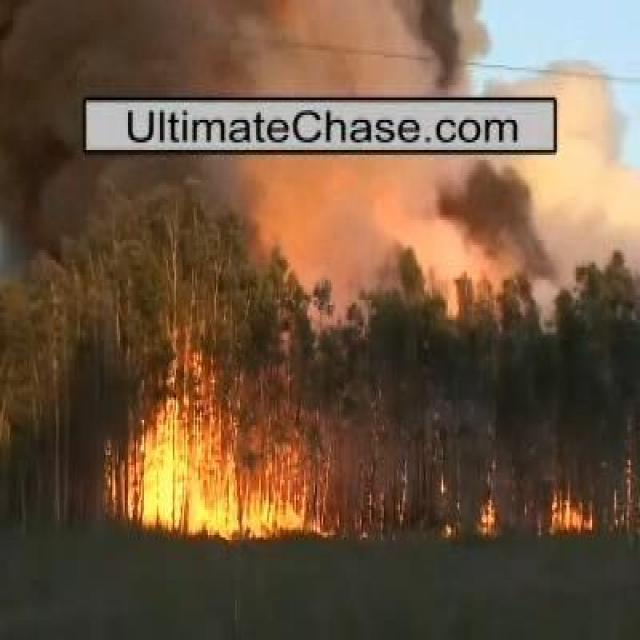fire: (144, 416, 228, 532), (550, 498, 597, 538), (482, 499, 502, 541)
smoke: (244, 154, 590, 263), (69, 5, 484, 90)
